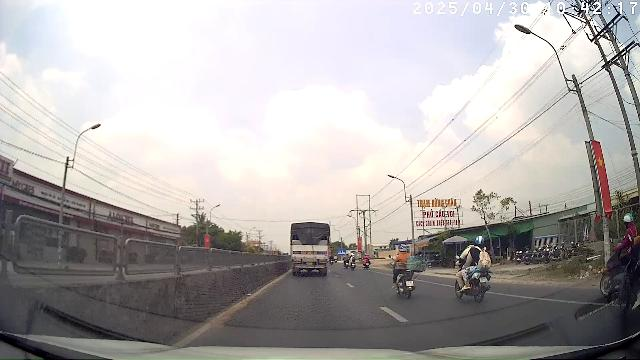420-bat-dau-khu-dong-dan-cu: (337, 248, 345, 255)
